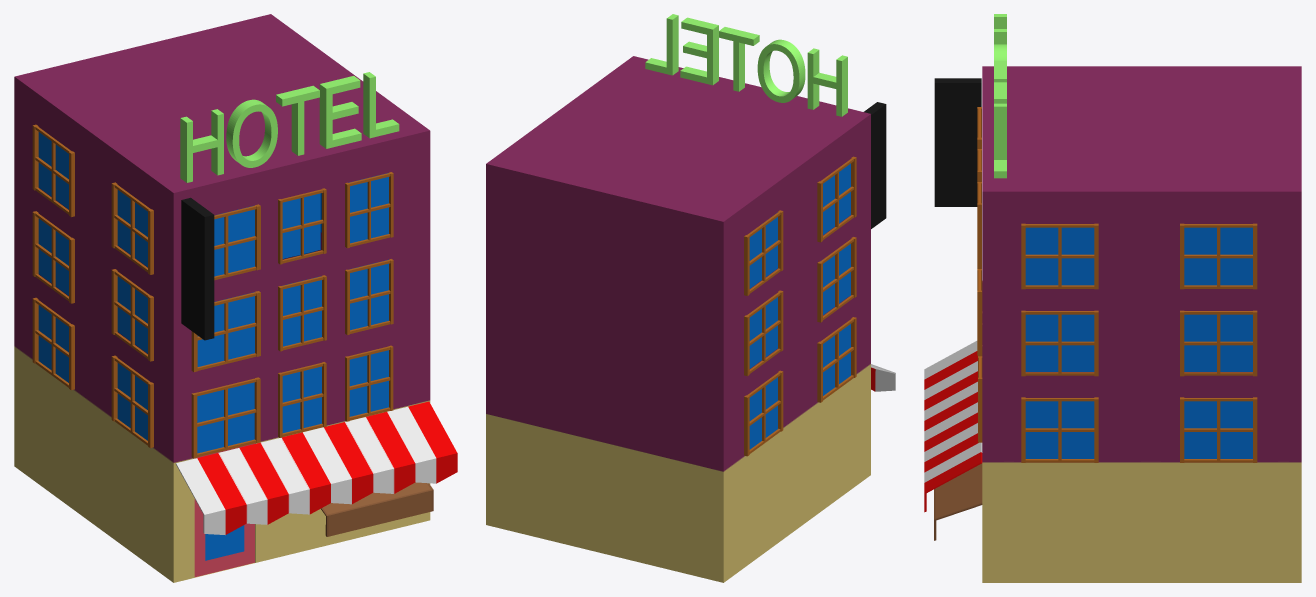
The model's file is Hotel Assets.fbx.
The picture shows the model from 3 angles, left to right: view 1: azimuth 30°, elevation 25°; view 2: azimuth 150°, elevation 25°; view 3: azimuth 270°, elevation 25°; orthographic projection. The views are drawn at different scales.
Visible parts, largest first — view 1: Hotel, Plane.021, Text.001, Cube.022, Plane.022, Plane.002, Plane.001, Plane, Plane.008, Plane.005, Plane.004, Plane.006 (+23 smaller); view 2: Hotel, Text.001, Cube.022, Cube.012, Cube.013, Cube.011, Cube.010, Cube.014, Cube.015, Plane.014, Plane.013, Plane.012 (+4 smaller); view 3: Hotel, Plane.021, Cube.022, Plane.016, Plane.015, Plane.017, Plane.019, Plane.018, Plane.020, Text.001, Plane.022, Cube.016 (+5 smaller).
Boxes of the visible parts, x1,y1,x2,y2 form: Hotel: (14,14,430,582); Plane.021: (176,401,457,535); Text.001: (180,72,399,182); Cube.022: (181,197,214,340); Plane.022: (321,482,433,536); Plane.002: (197,382,254,453); Plane.001: (197,292,254,366); Plane: (214,205,254,276); Plane.008: (349,350,388,416); Plane.005: (282,366,321,432); Plane.004: (283,276,321,346); Plane.006: (348,173,388,243); Hotel: (486,56,870,582); Text.001: (645,14,847,116); Cube.022: (864,102,886,228); Cube.012: (817,317,856,402); Cube.013: (744,290,783,376); Cube.011: (817,156,856,242); Cube.010: (817,237,856,322); Cube.014: (744,210,783,295); Cube.015: (744,370,783,456); Plane.014: (749,377,777,449); Plane.013: (749,212,777,288); Plane.012: (749,297,777,368); Hotel: (982,66,1301,582); Plane.021: (924,341,982,512); Cube.022: (934,78,981,206); Plane.016: (1025,227,1094,285); Plane.015: (1025,314,1094,371); Plane.017: (1025,401,1094,458); Plane.019: (1184,227,1252,285); Plane.018: (1184,314,1252,371); Plane.020: (1184,401,1252,458); Text.001: (994,14,1006,178); Plane.022: (934,463,982,540); Cube.016: (1021,310,1098,376).
Bounding box in the file's own units: 35172 × 57493 × 43320.
